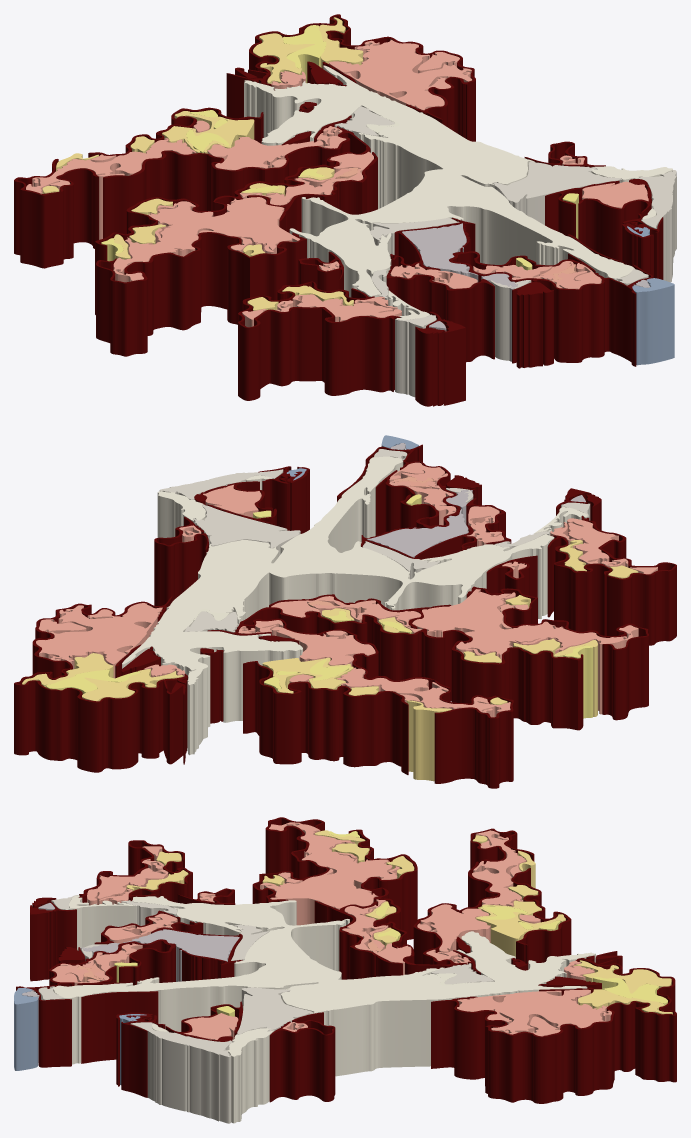
3 renders of one model, top to bottom at view 1: azimuth 30°, elevation 25°; view 2: azimuth 150°, elevation 25°; view 3: azimuth 270°, elevation 25°, orthographic. The views are drawn at different scales.
Visible parts, largest first — view 1: imagetostl_mesh47, imagetostl_mesh60, imagetostl_mesh66, imagetostl_mesh46, imagetostl_mesh54, imagetostl_mesh58, imagetostl_mesh74, imagetostl_mesh1, imagetostl_mesh84, imagetostl_mesh3, imagetostl_mesh56, imagetostl_mesh72 (+40 smaller); view 2: imagetostl_mesh47, imagetostl_mesh54, imagetostl_mesh46, imagetostl_mesh56, imagetostl_mesh64, imagetostl_mesh74, imagetostl_mesh1, imagetostl_mesh66, imagetostl_mesh60, imagetostl_mesh3, imagetostl_mesh78, imagetostl_mesh82 (+35 smaller); view 3: imagetostl_mesh56, imagetostl_mesh47, imagetostl_mesh46, imagetostl_mesh112, imagetostl_mesh82, imagetostl_mesh1, imagetostl_mesh58, imagetostl_mesh54, imagetostl_mesh3, imagetostl_mesh106, imagetostl_mesh60, imagetostl_mesh48 (+37 smaller).
Boxes of the visible parts, x1,y1,x2,y2 form: imagetostl_mesh47: [244, 65, 634, 295]; imagetostl_mesh60: [96, 233, 306, 356]; imagetostl_mesh66: [238, 296, 400, 400]; imagetostl_mesh46: [244, 66, 634, 297]; imagetostl_mesh54: [95, 127, 370, 314]; imagetostl_mesh58: [453, 252, 652, 366]; imagetostl_mesh74: [14, 159, 98, 268]; imagetostl_mesh1: [113, 197, 299, 280]; imagetostl_mesh84: [386, 267, 494, 362]; imagetostl_mesh3: [329, 39, 471, 110]; imagetostl_mesh56: [248, 15, 475, 141]; imagetostl_mesh72: [512, 288, 553, 368]; imagetostl_mesh47: [122, 456, 554, 684]; imagetostl_mesh54: [235, 608, 583, 730]; imagetostl_mesh46: [122, 462, 554, 755]; imagetostl_mesh56: [14, 597, 187, 772]; imagetostl_mesh64: [243, 662, 408, 774]; imagetostl_mesh74: [434, 692, 513, 788]; imagetostl_mesh1: [412, 589, 638, 654]; imagetostl_mesh66: [581, 518, 676, 645]; imagetostl_mesh60: [466, 589, 648, 720]; imagetostl_mesh3: [36, 603, 162, 663]; imagetostl_mesh78: [547, 535, 612, 635]; imagetostl_mesh82: [154, 517, 208, 605]; imagetostl_mesh56: [431, 957, 676, 1103]; imagetostl_mesh47: [53, 896, 595, 1013]; imagetostl_mesh46: [53, 901, 595, 1076]; imagetostl_mesh112: [130, 1023, 231, 1123]; imagetostl_mesh82: [269, 1012, 335, 1102]; imagetostl_mesh1: [260, 822, 399, 908]; imagetostl_mesh58: [16, 940, 175, 1067]; imagetostl_mesh54: [348, 830, 499, 974]; imagetostl_mesh3: [457, 989, 611, 1034]; imagetostl_mesh106: [81, 992, 158, 1063]; imagetostl_mesh60: [252, 818, 328, 903]; imagetostl_mesh48: [228, 1030, 273, 1123].
Size of the model in its own units: 77 by 10 by 90.05.
